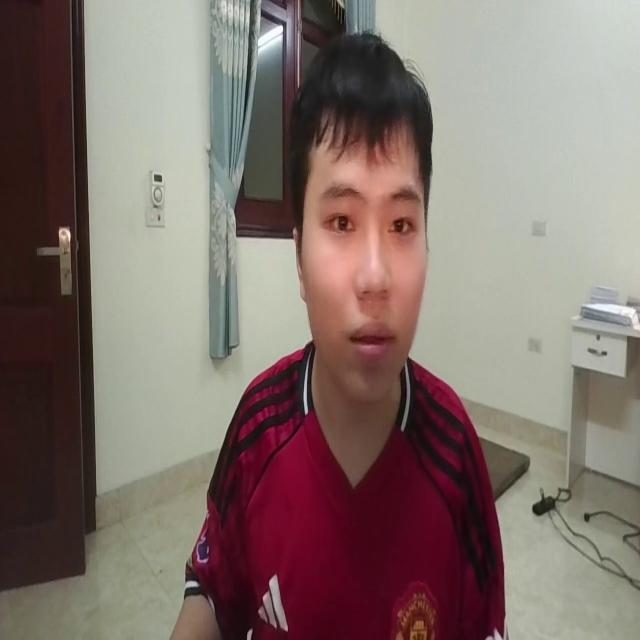student: (176, 24, 514, 640)
